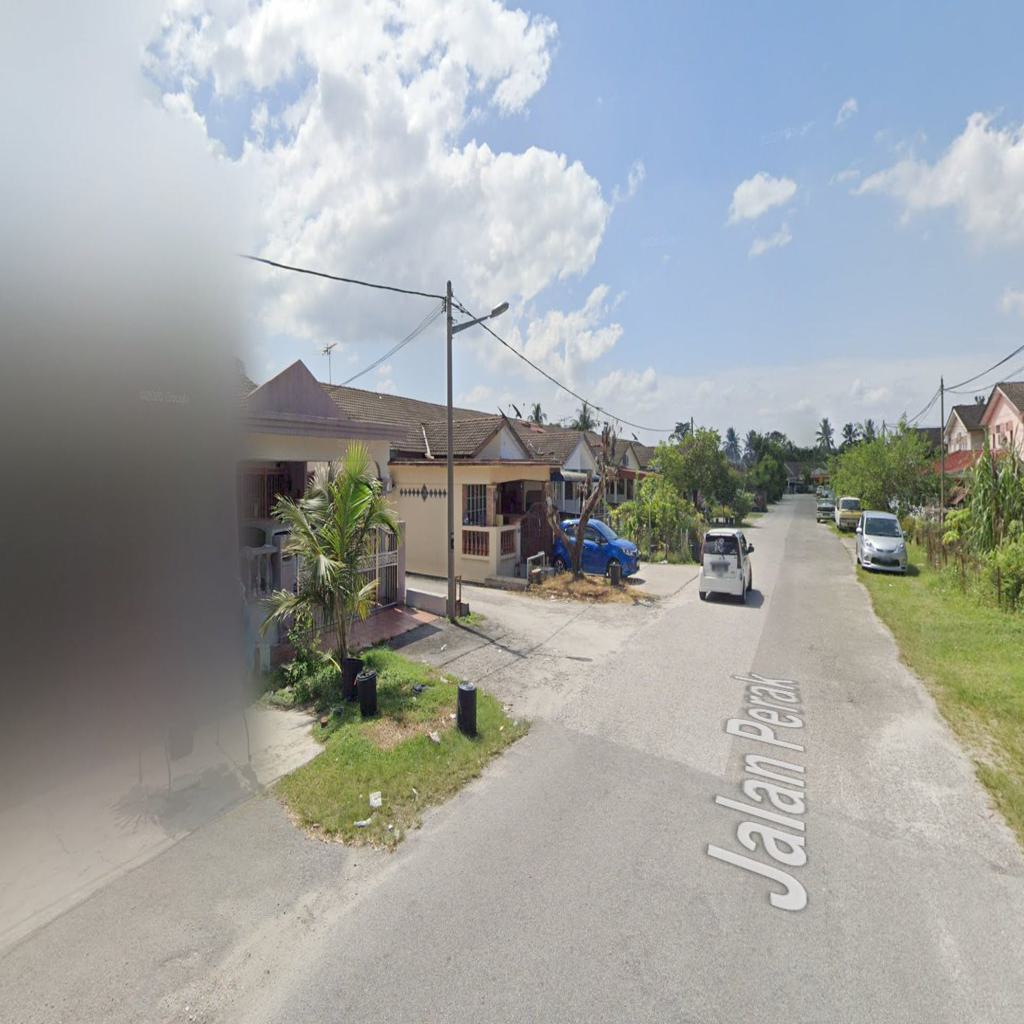Junction: (414, 531, 682, 707)
